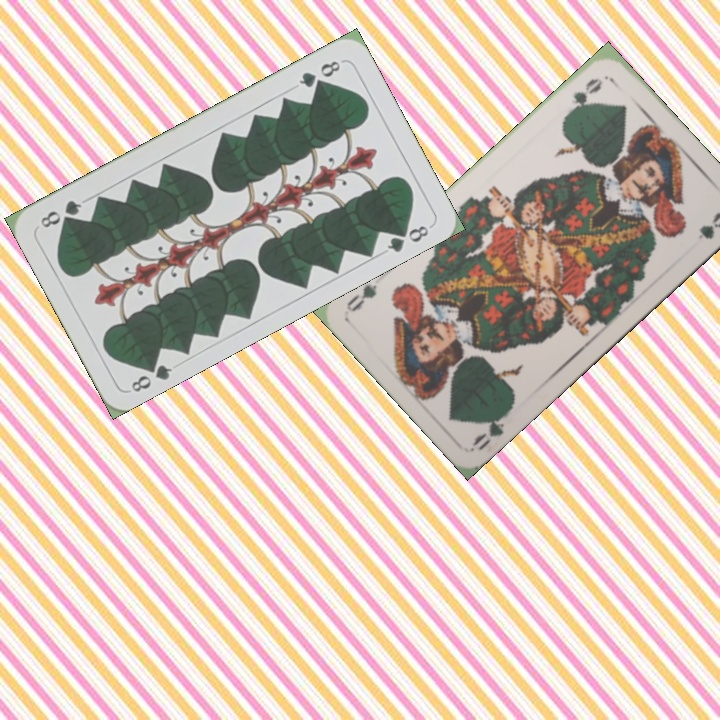G8: (127, 355, 175, 395), (294, 56, 343, 91)
GO: (469, 404, 515, 449), (562, 73, 606, 119)
